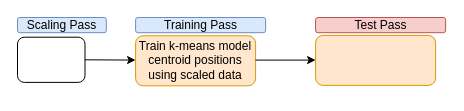
Some shapes in this 464 by 111 pixel diagram are drawn without their labels. Each missing label, with the box of its shape:
Assign points to clusters based on centroid proximity: (315, 34, 436, 85)
Scale all data: (16, 36, 85, 82)
